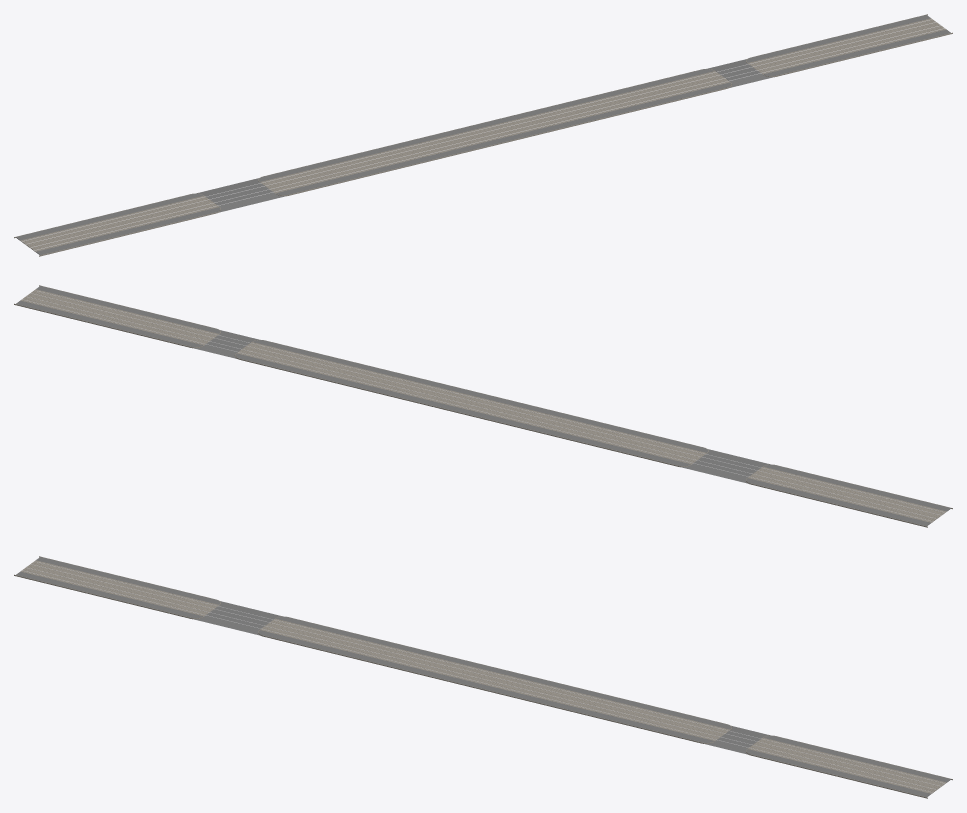
File: tram_rails.glb
3 views of the same model, one above another, from view 1: azimuth 30°, elevation 25°; view 2: azimuth 150°, elevation 25°; view 3: azimuth 330°, elevation 25° (orthographic).
Size of the model in its own units: 211 by 0.22 by 10.19.
6 materials, 5 textured.
